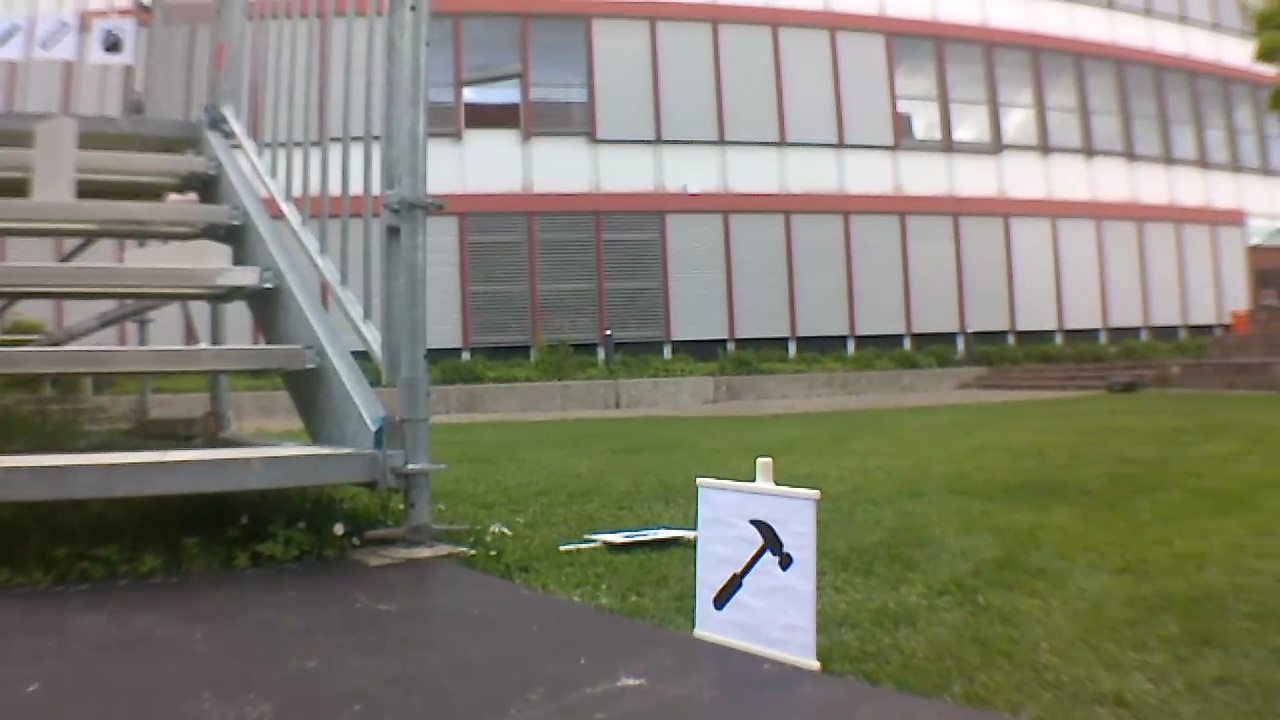brick: (33, 115, 72, 202), (125, 239, 230, 267)
bucket: (94, 20, 129, 58)
hammer: (703, 506, 797, 622)
ruler: (35, 17, 74, 56)
stairs: (2, 3, 469, 558)
